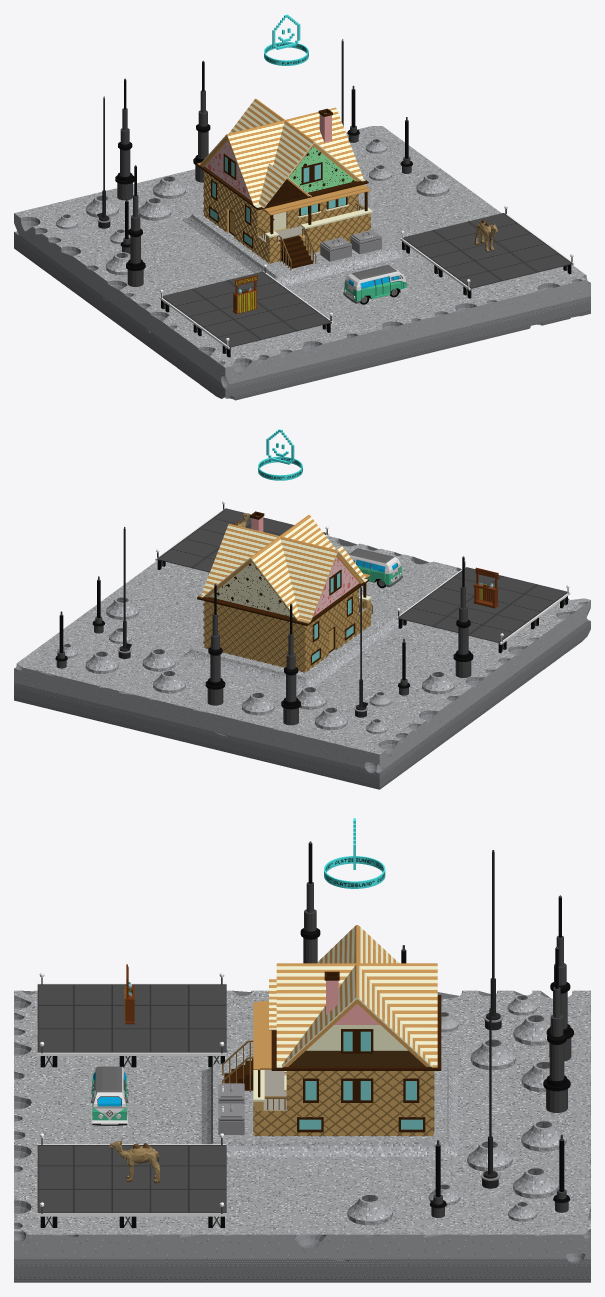
3 views of the same model, one above another, from view 1: azimuth 30°, elevation 25°; view 2: azimuth 150°, elevation 25°; view 3: azimuth 270°, elevation 25° (orthographic). The views are drawn at different scales.
Parts seen in each view (by area): view 1: Cube.027, Cube.1102, Cube.026, Cube.025, Cube.028, VEHICLES_VAN, Cylinder.021, Cylinder.020, Cylinder.017, TYPE_PREMIUM, OBJRANDOM_LEMONADE_STAND, Cube.029 (+4 smaller); view 2: Cube.027, Cube.1102, Cube.025, Cube.028, Cube.026, VEHICLES_VAN, Cylinder.017, Cylinder.021, Cylinder.020, TYPE_PREMIUM, OBJRANDOM_LEMONADE_STAND, Cylinder.030 (+8 smaller); view 3: Cube.027, Cube.1102, Cube.025, Cube.026, Cube.028, Cylinder.017, VEHICLES_VAN, Cylinder.020, Cylinder.021, TYPE_PREMIUM, Cylinder.033, Cylinder.031 (+11 smaller).
Boxes of the visible parts, bbox=[...] form: Cube.027: bbox=[14, 126, 590, 400]; Cube.1102: bbox=[196, 98, 372, 269]; Cube.026: bbox=[400, 205, 574, 298]; Cube.025: bbox=[159, 264, 333, 357]; Cube.028: bbox=[182, 211, 403, 286]; VEHICLES_VAN: bbox=[343, 264, 407, 304]; Cylinder.021: bbox=[126, 165, 145, 286]; Cylinder.020: bbox=[115, 78, 134, 200]; Cylinder.017: bbox=[193, 60, 210, 182]; TYPE_PREMIUM: bbox=[264, 14, 308, 65]; OBJRANDOM_LEMONADE_STAND: bbox=[233, 275, 257, 313]; Cube.029: bbox=[320, 237, 351, 261]; Cube.027: bbox=[14, 536, 590, 789]; Cube.1102: bbox=[197, 511, 372, 672]; Cube.025: bbox=[396, 560, 570, 653]; Cube.028: bbox=[181, 610, 398, 688]; Cube.026: bbox=[155, 501, 329, 572]; VEHICLES_VAN: bbox=[348, 548, 402, 588]; Cylinder.017: bbox=[205, 583, 225, 705]; Cylinder.021: bbox=[453, 556, 473, 677]; Cylinder.020: bbox=[281, 603, 300, 725]; TYPE_PREMIUM: bbox=[258, 429, 302, 480]; OBJRANDOM_LEMONADE_STAND: bbox=[473, 567, 498, 608]; Cylinder.030: bbox=[142, 648, 175, 671]; Cube.027: bbox=[14, 990, 590, 1282]; Cube.1102: bbox=[222, 925, 441, 1136]; Cube.025: bbox=[37, 973, 226, 1067]; Cube.026: bbox=[37, 1133, 226, 1227]; Cube.028: bbox=[201, 1063, 457, 1156]; Cylinder.017: bbox=[543, 946, 570, 1112]; VEHICLES_VAN: bbox=[90, 1066, 128, 1125]; Cylinder.020: bbox=[546, 895, 573, 1061]; Cylinder.021: bbox=[300, 841, 320, 963]; TYPE_PREMIUM: bbox=[324, 818, 385, 888]; Cylinder.033: bbox=[347, 1194, 392, 1225]; Cylinder.031: bbox=[513, 1167, 558, 1198].
Bounding box in the file's own units: 4000 × 2703 × 4000.
41 materials, 6 textured.
